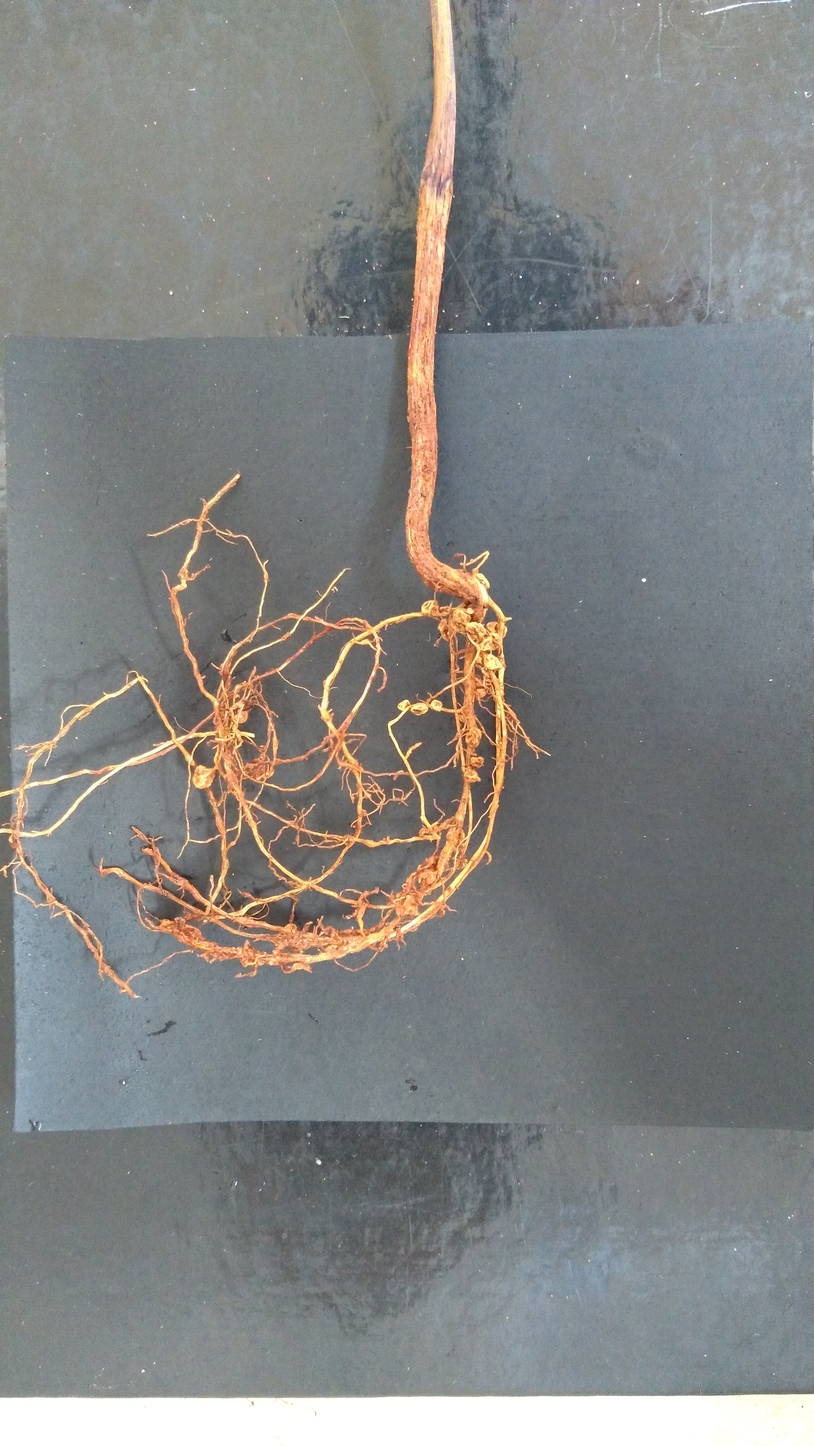nodule: (159, 916, 203, 942), (464, 621, 493, 652), (191, 764, 217, 791), (449, 608, 472, 635), (401, 893, 420, 918), (482, 652, 503, 673), (464, 726, 483, 748), (419, 598, 439, 618), (422, 866, 438, 888), (436, 617, 450, 642), (475, 571, 491, 589), (463, 768, 479, 784), (410, 703, 429, 716), (429, 698, 444, 713), (234, 710, 249, 725), (469, 755, 485, 769), (473, 687, 487, 701), (485, 620, 498, 634), (397, 698, 410, 711), (283, 921, 298, 931), (501, 624, 509, 639)
